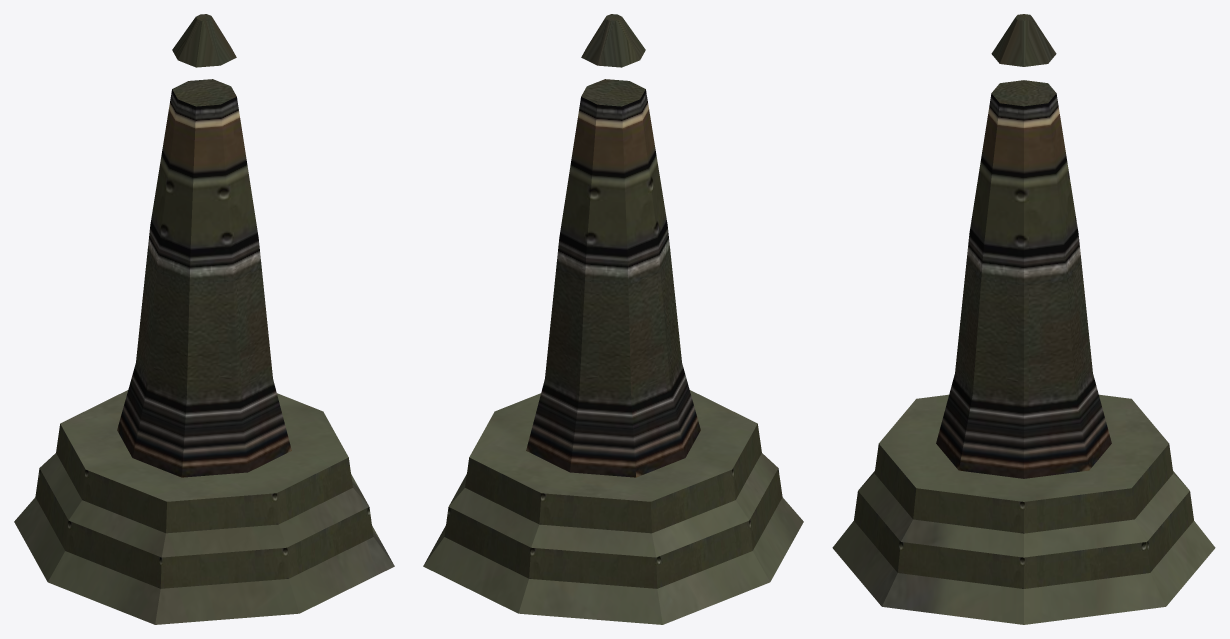
Rendered from rep_oblisko.dae.
3 renders of one model, left to right at view 1: azimuth 30°, elevation 25°; view 2: azimuth 150°, elevation 25°; view 3: azimuth 270°, elevation 25°, orthographic.
Visible parts, largest first — view 1: defense_tower; view 2: defense_tower; view 3: defense_tower.
Part boxes in pixels (x1,y1,x2,y2): defense_tower: (14, 14, 394, 624); defense_tower: (423, 14, 803, 624); defense_tower: (832, 14, 1215, 624).
Size of the model in its own units: 12.67 by 13.31 by 20.33.
